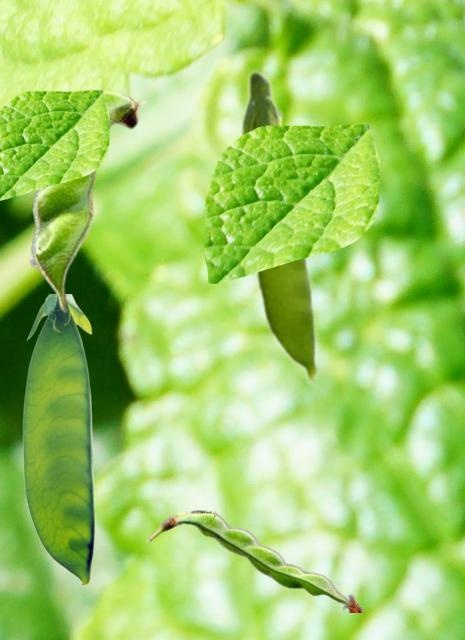pea: (28, 90, 146, 312), (239, 68, 320, 386), (147, 510, 363, 611), (22, 294, 93, 586)
